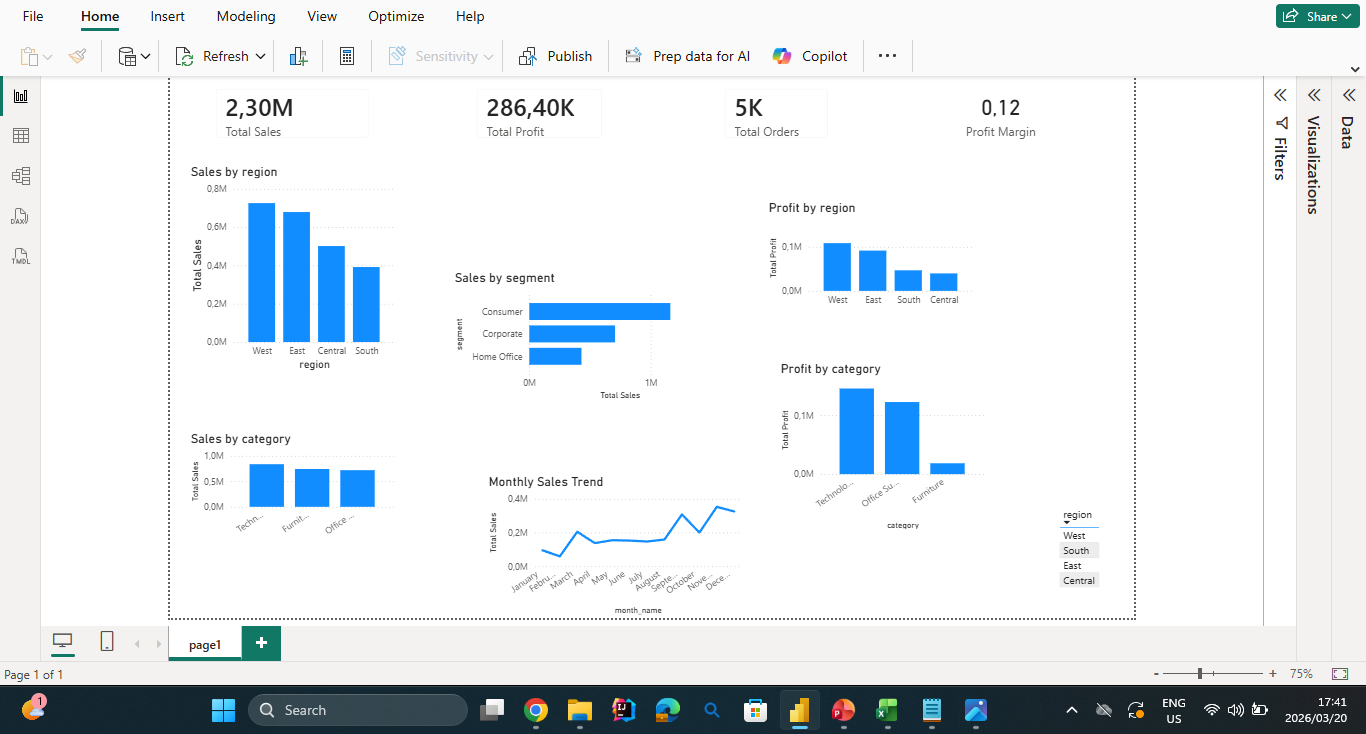

What the dashboard file says about the page in this screenshot:
{"tool":"powerbi","page":{"name":"Page 1","canvas":[1280,720],"ordinal":0},"visuals":[{"type":"card","fields":{"Values":["Sheet1.Profit Margin"]},"box":[999.5,0,209.3,99.5],"z":2},{"type":"cardVisual","fields":{"Data":["Sheet1.Total Orders"]},"box":[720,0,171.2,99.5],"z":3},{"type":"clusteredColumnChart","title":"Sales by region","fields":{"Category":["Sheet1.region"],"Y":["Sheet1.Total Sales"]},"box":[22,117.1,281,279.5],"z":4},{"type":"cardVisual","fields":{"Data":["Sheet1.Total Sales"]},"box":[43.9,0,237.1,99.5],"z":6},{"type":"cardVisual","fields":{"Data":["Sheet1.Total Profit"]},"box":[390.7,0,200.5,99.5],"z":7},{"type":"clusteredColumnChart","title":" Profit by region","fields":{"Y":["Sheet1.Total Profit"],"Category":["Sheet1.region"]},"box":[790.2,165.4,281,150.7],"z":9},{"type":"tableEx","fields":{"Values":["Sheet1.region"]},"box":[1175.1,567.8,105.4,152.2],"z":10},{"type":"clusteredColumnChart","title":"Sales by category","fields":{"Y":["Sheet1.Total Sales"],"Category":["Sheet1.category"]},"box":[22,471.2,281,150.7],"z":11},{"type":"clusteredColumnChart","title":" Profit by category","fields":{"Y":["Sheet1.Total Profit"],"Category":["Sheet1.category"]},"box":[806.3,379,281,228.3],"z":12},{"type":"lineChart","title":"Monthly Sales Trend","fields":{"Y":["Sheet1.Total Sales"],"Category":["Sheet1.month_name"]},"box":[418.5,528.3,345.4,191.7],"z":13},{"type":"clusteredBarChart","title":" Sales by segment","fields":{"Category":["Sheet1.segment"],"Y":["Sheet1.Total Sales"]},"box":[373.2,257.6,360,177.1],"z":14}]}

Visuals, with their boxes on the page's 1280x720 design canvas (x1, y1, x2, y2). These are canvas units, not pixel positions in the 1366x734 screenshot, which may show the page scaled, cropped or inside an application window:
card - Sheet1.Profit Margin: select_region(1000, 0, 1209, 100)
cardVisual - Sheet1.Total Orders: select_region(720, 0, 891, 100)
"Sales by region" clusteredColumnChart: select_region(22, 117, 303, 397)
cardVisual - Sheet1.Total Sales: select_region(44, 0, 281, 100)
cardVisual - Sheet1.Total Profit: select_region(391, 0, 591, 100)
" Profit by region" clusteredColumnChart: select_region(790, 165, 1071, 316)
tableEx - Sheet1.region: select_region(1175, 568, 1280, 720)
"Sales by category" clusteredColumnChart: select_region(22, 471, 303, 622)
" Profit by category" clusteredColumnChart: select_region(806, 379, 1087, 607)
"Monthly Sales Trend" lineChart: select_region(418, 528, 764, 720)
" Sales by segment" clusteredBarChart: select_region(373, 258, 733, 435)
